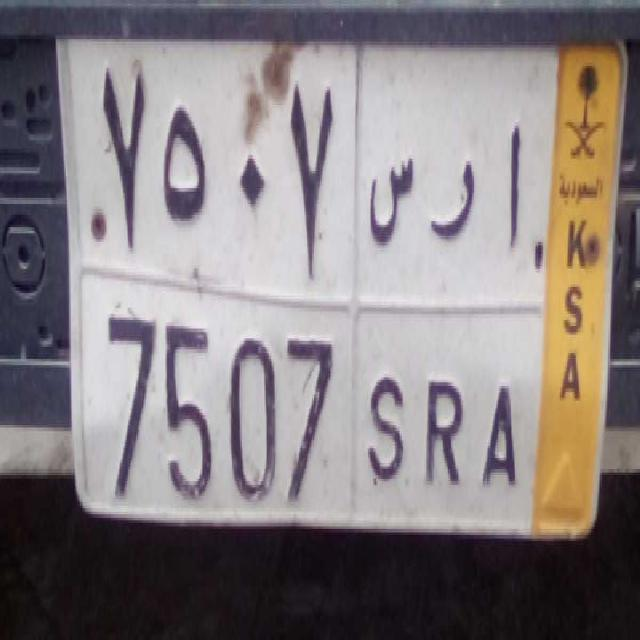license_plate: (76, 266, 540, 552)
